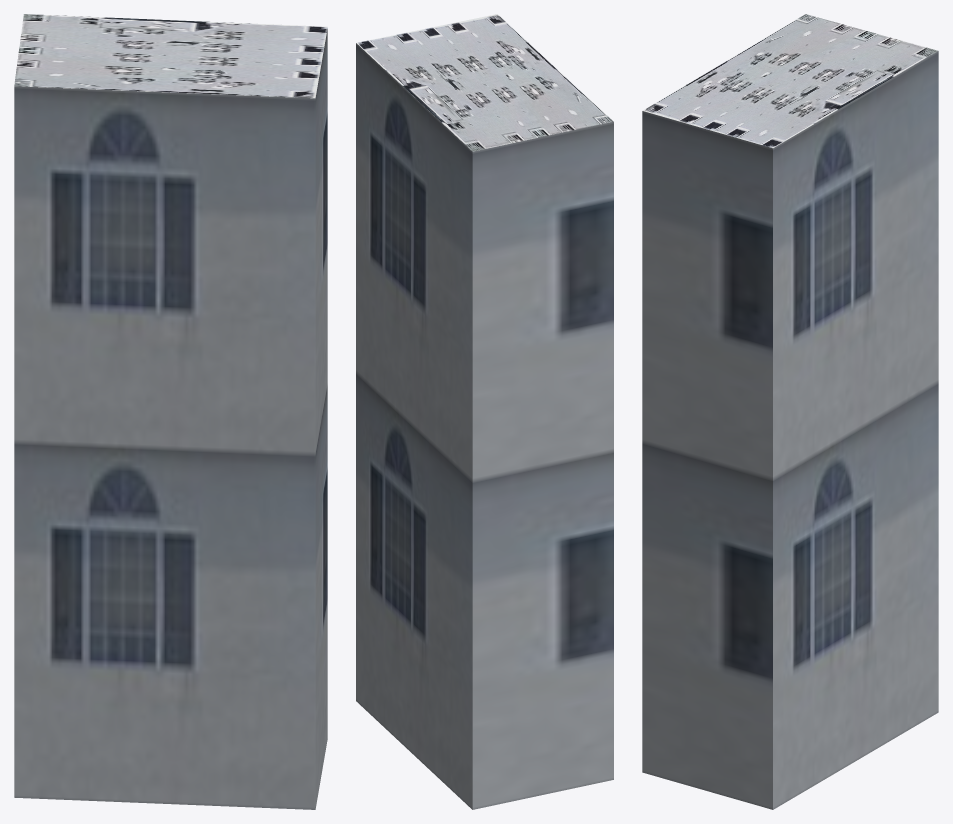
Rendered from ResTex__3671.fbx.
3 renders of one model, left to right at view 1: azimuth 30°, elevation 25°; view 2: azimuth 150°, elevation 25°; view 3: azimuth 270°, elevation 25°, orthographic. The views are drawn at different scales.
Visible parts, largest first — view 1: CityEngineMaterial_17_m, CityEngineMaterial_8_m; view 2: CityEngineMaterial_17_m, CityEngineMaterial_8_m; view 3: CityEngineMaterial_17_m, CityEngineMaterial_8_m.
Part boxes in pixels (x1,y1,x2,y2): CityEngineMaterial_17_m: (14,29,327,809); CityEngineMaterial_8_m: (14,14,327,98); CityEngineMaterial_17_m: (356,43,613,809); CityEngineMaterial_8_m: (356,14,613,151); CityEngineMaterial_17_m: (642,51,938,809); CityEngineMaterial_8_m: (642,14,938,148).
Bounding box in the file's own units: 2.61 × 6 × 2.44.
Materials: 2 (2 with a texture image).
